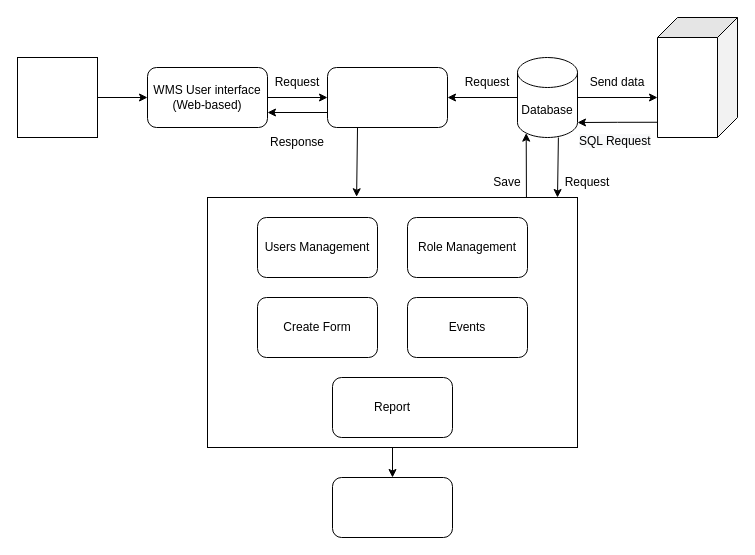
Some shapes in this 755 by 555 pixel diagram are drawn without their labels. Each missing label, with the centre of its shape:
"Logout" goes at [392,507].
"personnel Sawit Kinabalu Sdn Bhd" goes at [57,97].
"Register and Login" goes at [387,97].
"Server" goes at [697,77].
